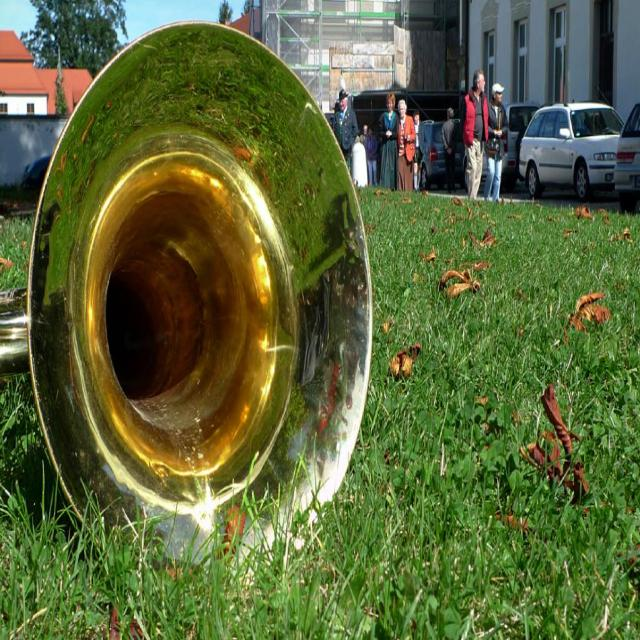car: (517, 91, 631, 194), (506, 99, 538, 176), (417, 118, 451, 186)
